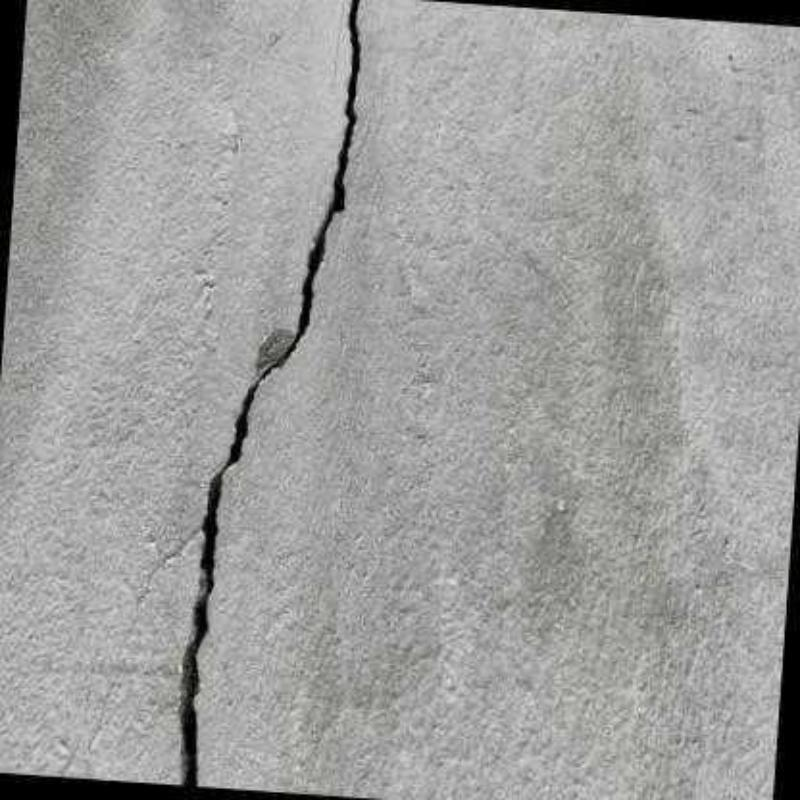pothole: (174, 4, 366, 787)
